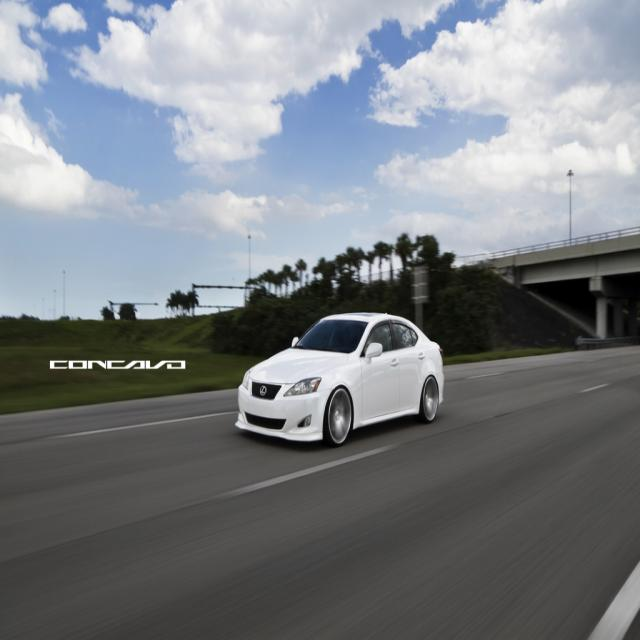car: (233, 304, 447, 449)
